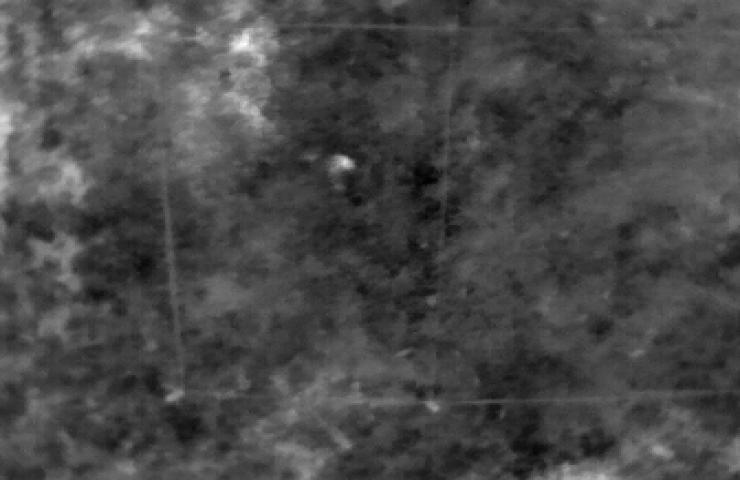landmines: (328, 148, 359, 177)
